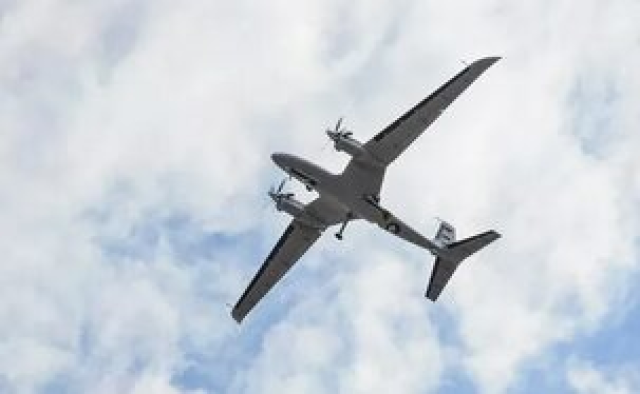military drone: (228, 55, 502, 324)
